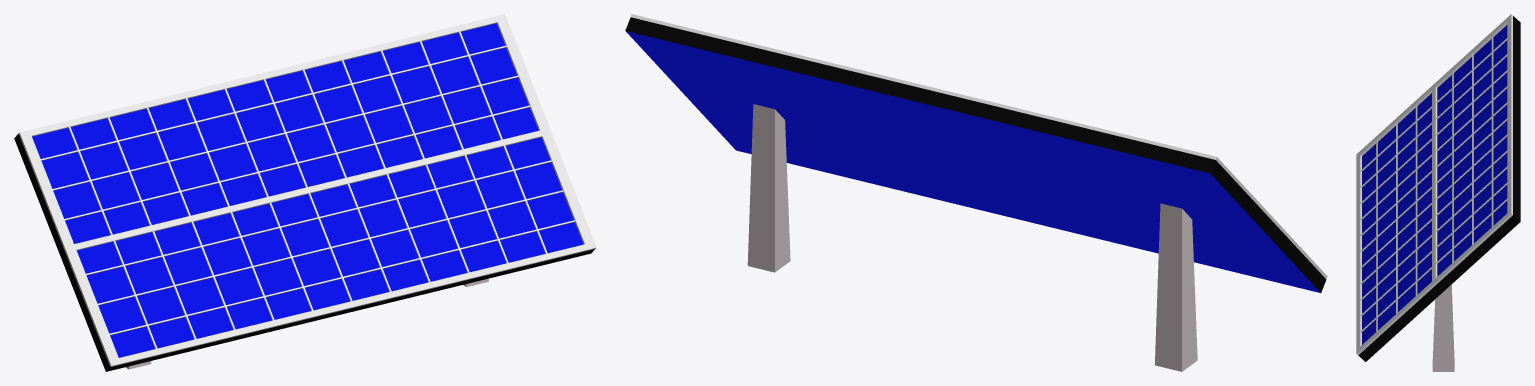
File: spr_mAX3_395.glb
3 renders of one model, left to right at view 1: azimuth 30°, elevation 25°; view 2: azimuth 150°, elevation 25°; view 3: azimuth 270°, elevation 25°, orthographic. The views are drawn at different scales.
Visible parts, largest first — view 1: Cube.013; view 2: Cube.013; view 3: Cube.013.
Part boxes in pixels (x1,y1,x2,y2): Cube.013: (14,14,596,371); Cube.013: (625,14,1327,371); Cube.013: (1356,14,1520,371).
Bounding box in the file's own units: 0.0568 × 0.0244 × 0.0197.
